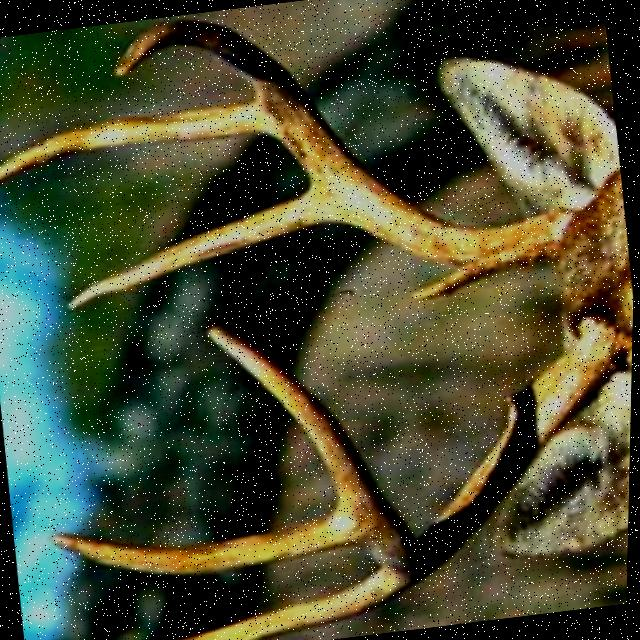L-F: (205, 313, 629, 580)
L-G1: (178, 567, 419, 640)
L-G2: (48, 500, 364, 577)
R-F: (111, 20, 577, 268)
R-G1: (409, 266, 487, 300)
R-G2: (62, 178, 351, 312)
R-G3: (0, 97, 285, 187)
